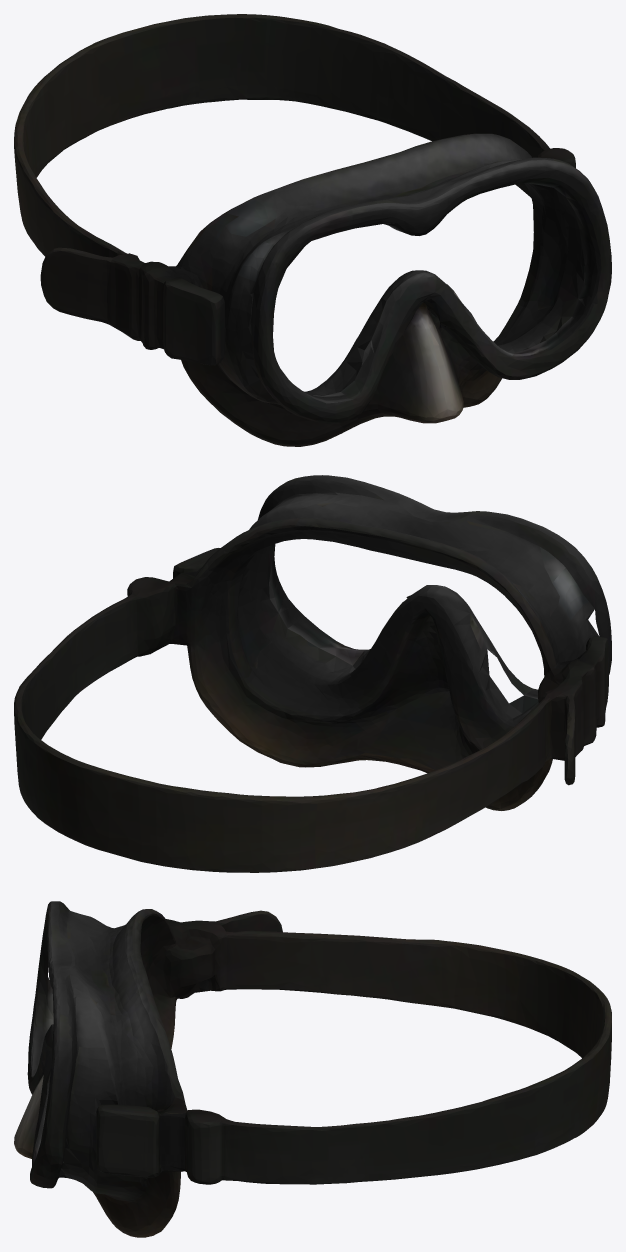
Rendered from diving_mask.glb.
3 renders of one model, top to bottom at view 1: azimuth 30°, elevation 25°; view 2: azimuth 150°, elevation 25°; view 3: azimuth 270°, elevation 25°, orthographic. The views are drawn at different scales.
Parts seen in each view (by area): view 1: geometry_0.003; view 2: geometry_0.003; view 3: geometry_0.003.
Part boxes in pixels (<box>): geometry_0.003: <box>14,14,611,446</box>; geometry_0.003: <box>14,475,611,872</box>; geometry_0.003: <box>14,901,611,1237</box>.
Bounding box in the file's own units: 0.5209 × 0.2708 × 0.6.
1 material, 1 textured.
